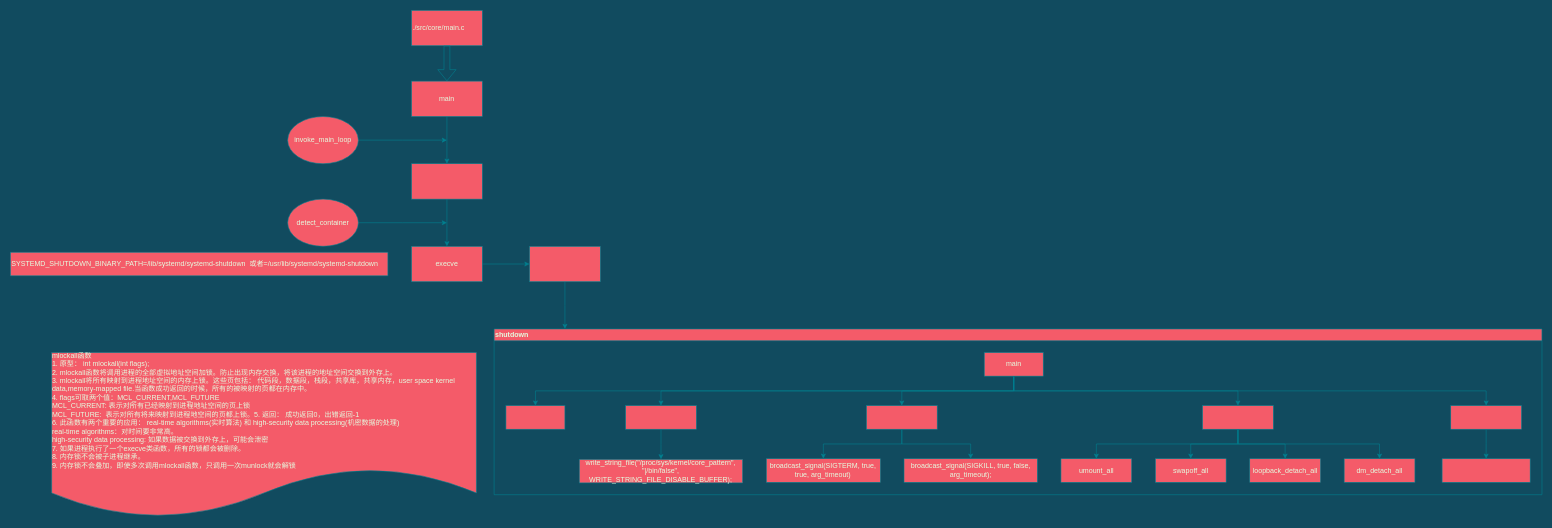
This 1552x528 diagram has some shape labels left out. Here are the shapes that lost their labels. From the top down, the centre of each, then its label:
At [446,181]: "become_shutdown".
At [564,264]: "./src/core/shutdown.c".
At [535,417]: "mlockall".
At [660,417]: "disable_coredumps".
At [901,417]: "broadcast_signal".
At [1237,417]: "unmount".
At [1486,417]: "reboot(cmd)".
At [1485,470]: "cmd=RB_POWER_OFF:".
